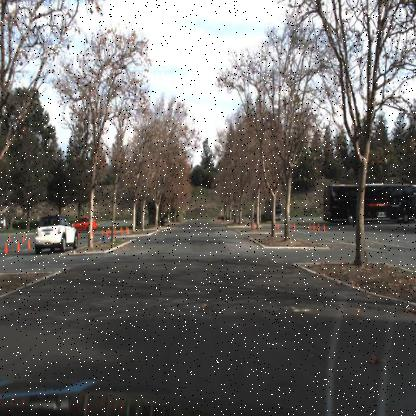car: (33, 214, 79, 254), (72, 215, 97, 233)
truck: (320, 182, 416, 224), (263, 197, 281, 221)
